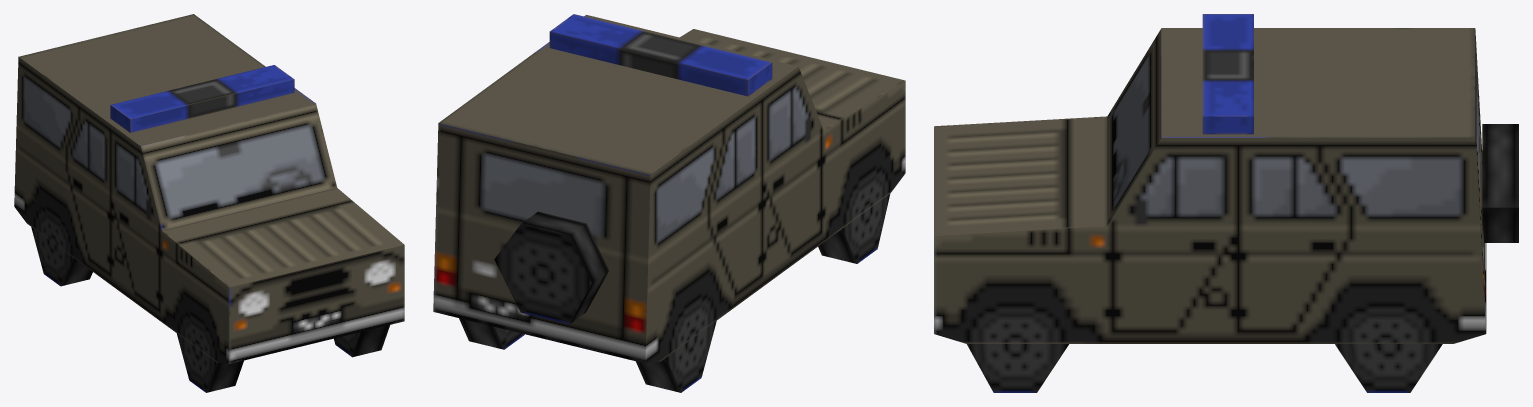
Rendered from bobik_migalka.obj.
The picture shows the model from 3 angles, left to right: view 1: azimuth 30°, elevation 25°; view 2: azimuth 150°, elevation 25°; view 3: azimuth 270°, elevation 25°; orthographic projection. The views are drawn at different scales.
Parts seen in each view (by area): view 1: Regroup01; view 2: Regroup01; view 3: Regroup01.
Boxes of the visible parts, x1,y1,x2,y2 form: Regroup01: [14, 14, 404, 392]; Regroup01: [433, 14, 905, 392]; Regroup01: [934, 14, 1518, 392].
Bounding box in the file's own units: 24 × 27.8 × 54.01.
1 material, 1 textured.
